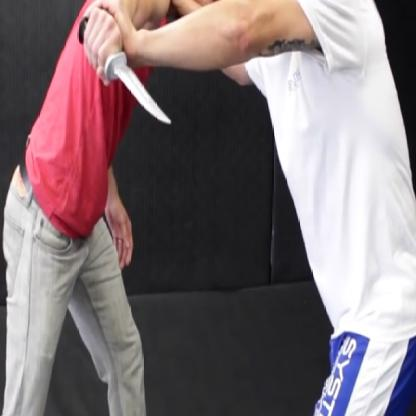knife: (73, 10, 177, 136)
